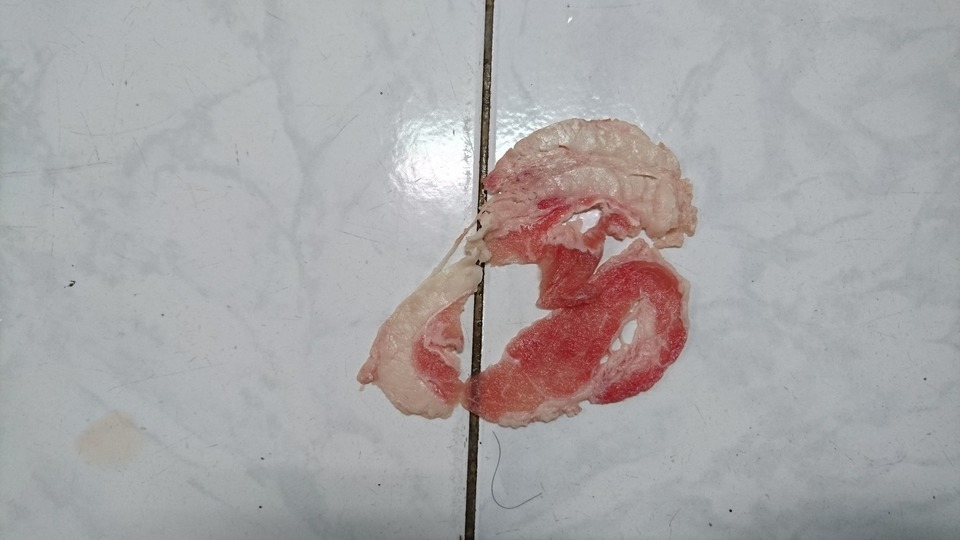restructured meat: (359, 101, 700, 429)
